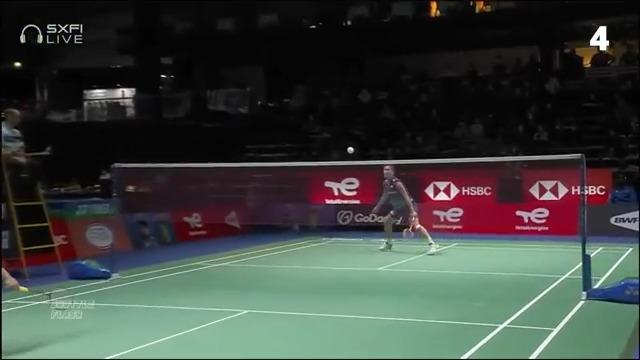Shuttlecock: (346, 144, 356, 154)
